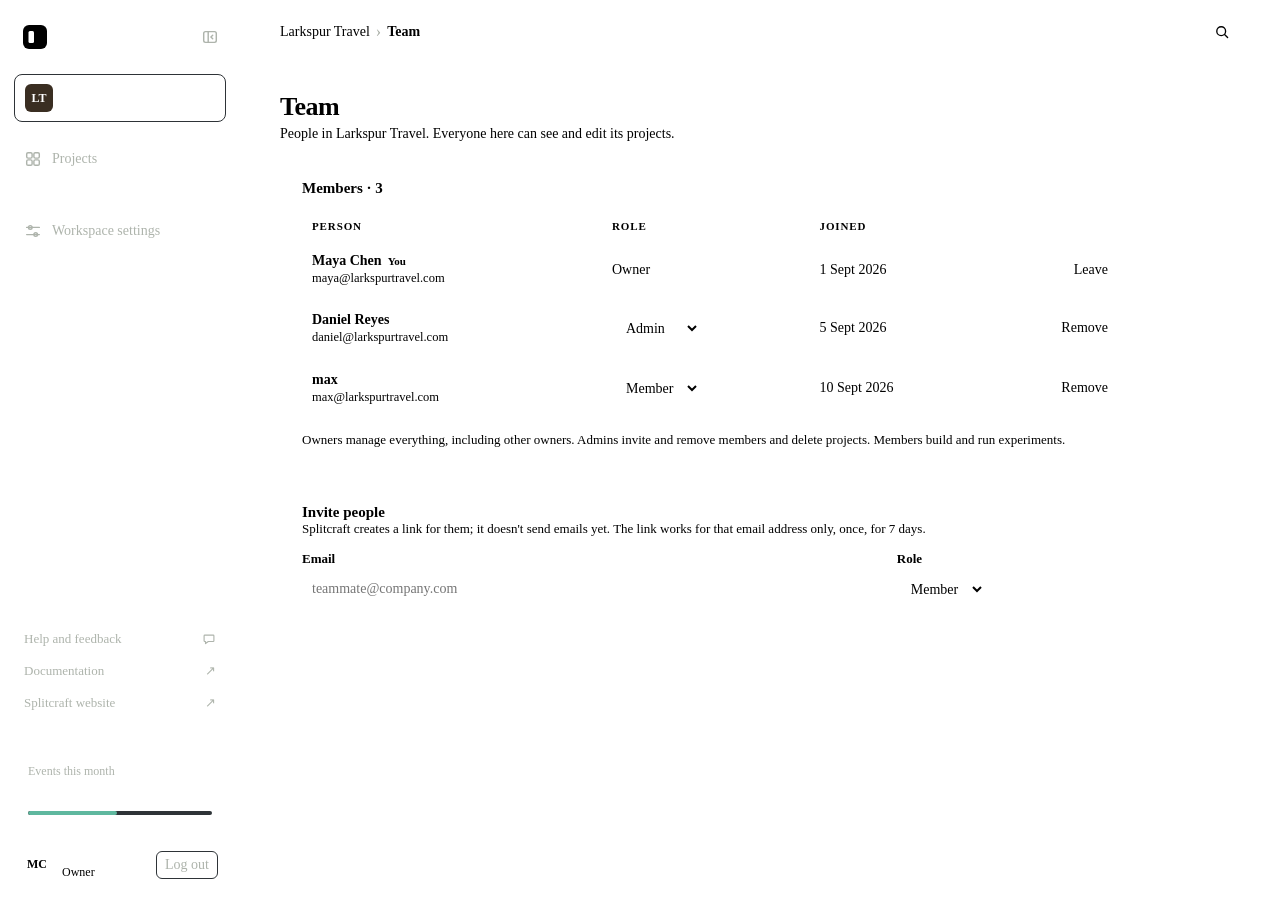
Test: team › changes a role and removes a member
The image size is (1280, 900).
Expected: the heading "Team" is shown, left=280, top=92, right=339, bottom=121
Expected: the text "maya@larkspurtravel.com" is shown, left=312, top=271, right=445, bottom=285
Select "Admin" in the dropdown named "Role for max@larkspurtravel.com" at (656, 388), box left=612, top=370, right=700, bottom=406
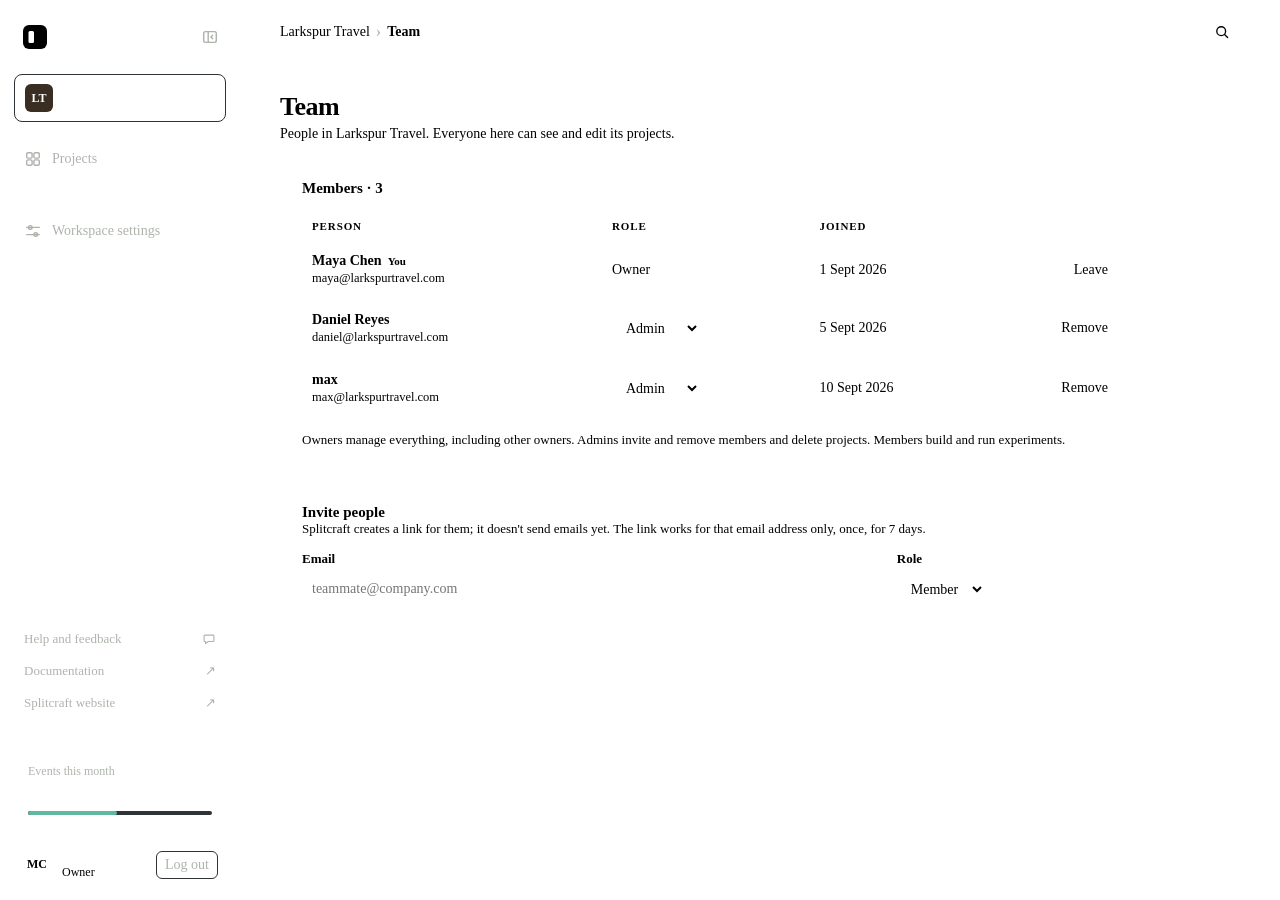
Click the button with aria-label "Remove daniel@larkspurtravel.com" at (1085, 328), box left=1061, top=320, right=1108, bottom=336
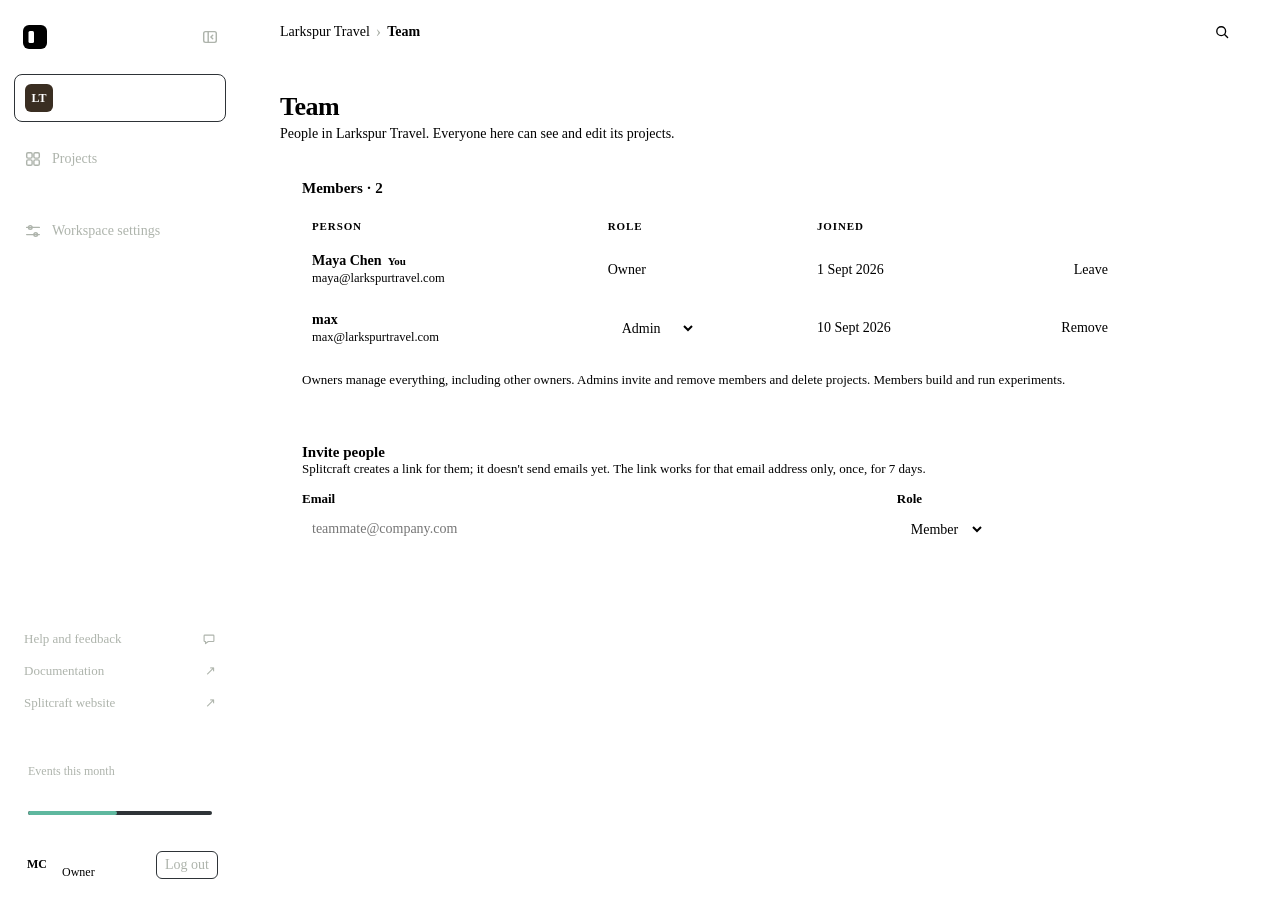
Expected: the text "daniel@larkspurtravel.com" is gone
